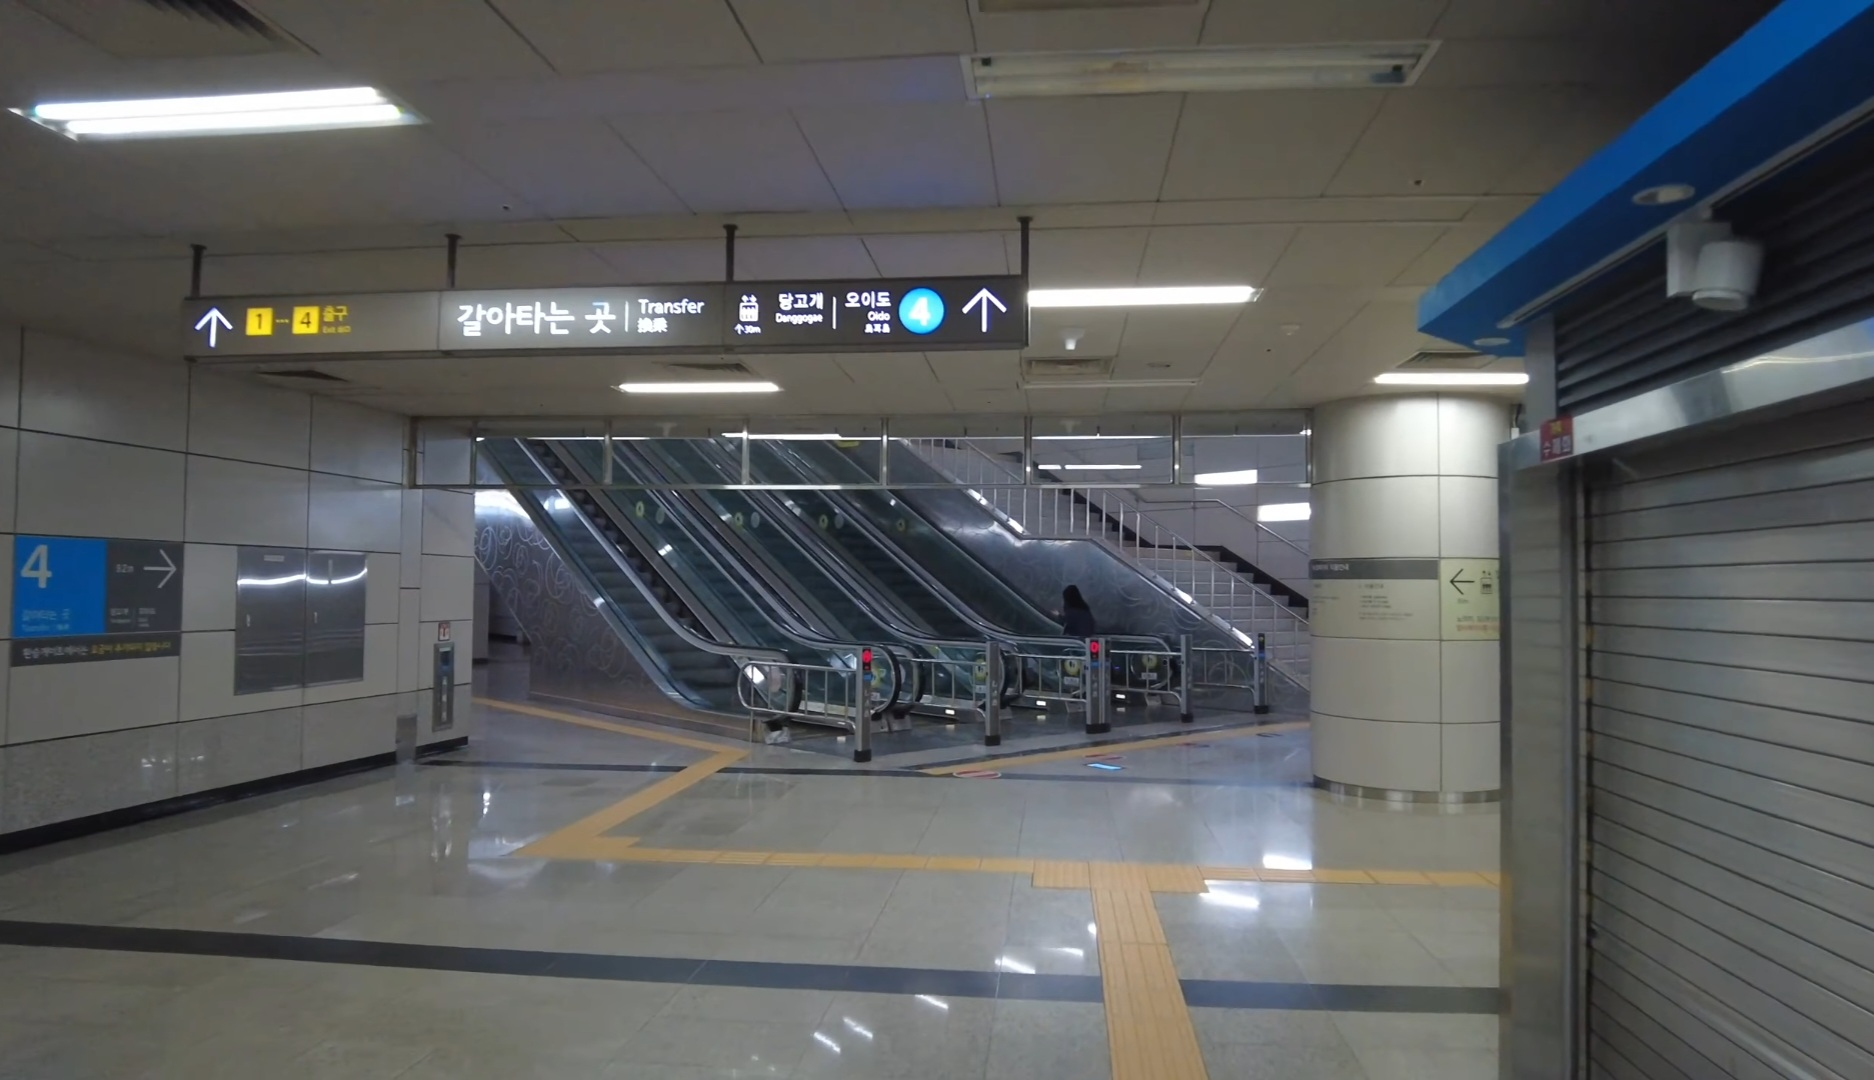signBoard: (160, 197, 1055, 366)
